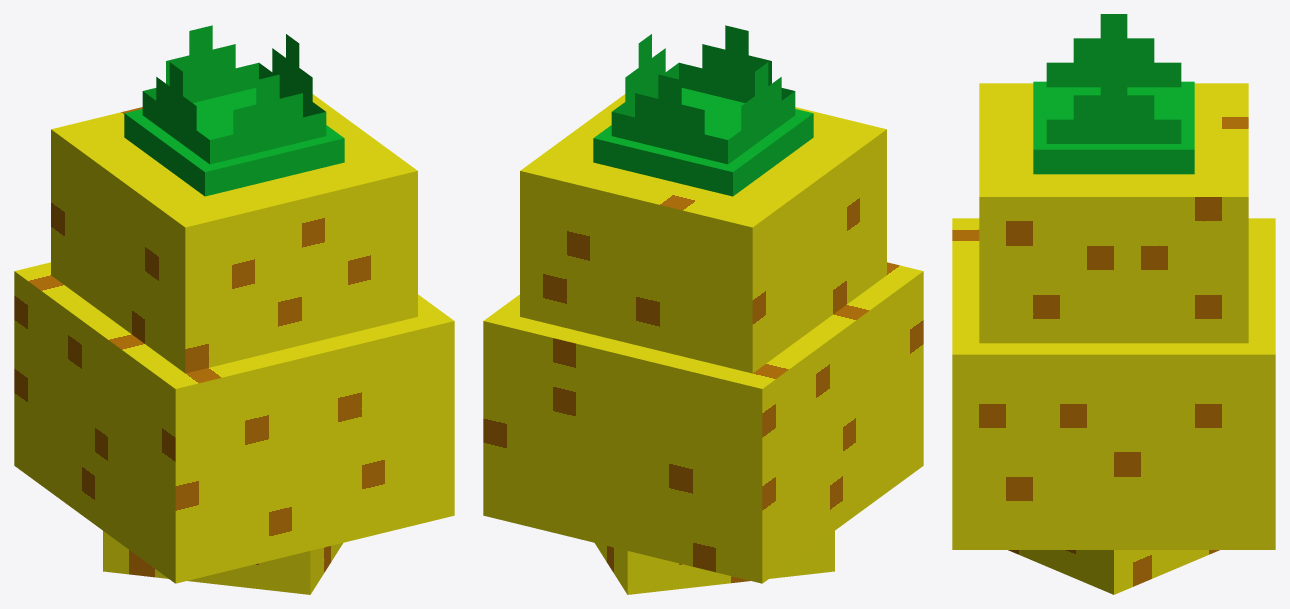
Rendered from sitrus.obj.
3 renders of one model, left to right at view 1: azimuth 30°, elevation 25°; view 2: azimuth 150°, elevation 25°; view 3: azimuth 270°, elevation 25°, orthographic.
Parts seen in each view (by area): view 1: sitrus; view 2: sitrus; view 3: sitrus.
Part boxes in pixels (left/top/right/bottom): sitrus: left=14, top=25, right=454, bottom=594; sitrus: left=483, top=25, right=923, bottom=594; sitrus: left=952, top=14, right=1275, bottom=594.
Size of the model in its own units: 0.225 by 0.375 by 0.225.
